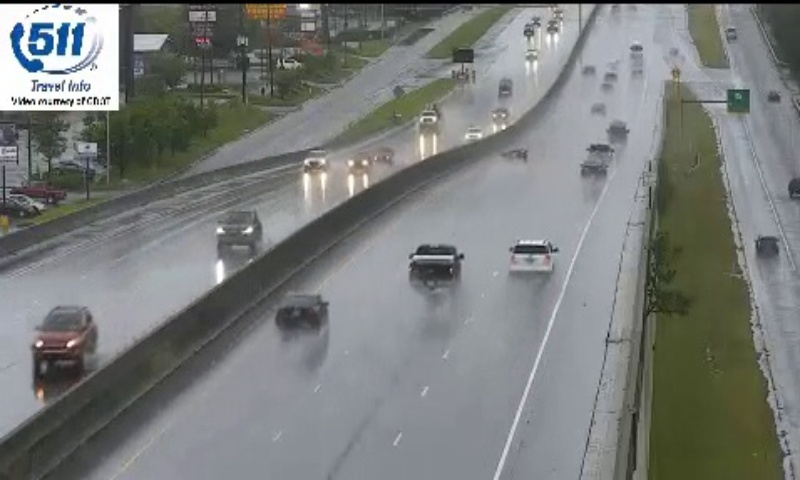car: (410, 244, 461, 292), (276, 293, 328, 333), (511, 240, 552, 272), (579, 160, 605, 182)
